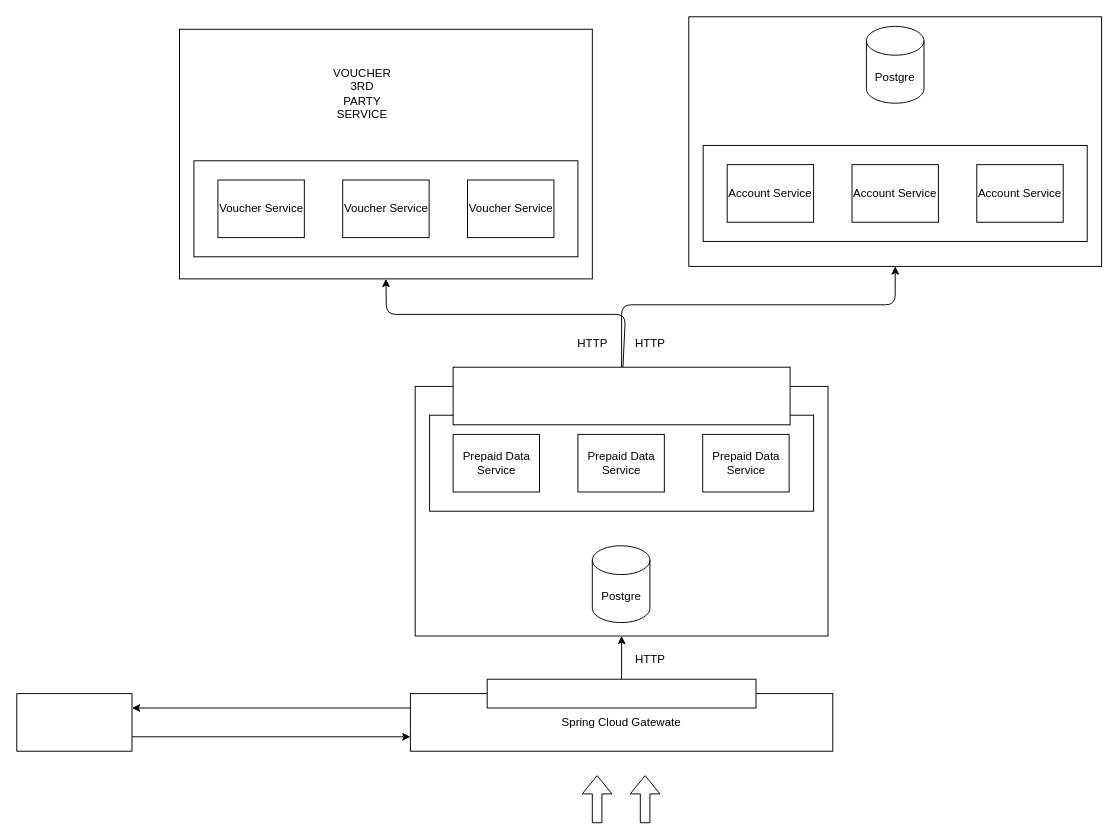
Some shapes in this 1118 by 840 pixel diagram are drawn without their labels. The shapes that lost their labels are listed below. From the top down, each one's centre as x and y in pixels, then its label:
the point at 621,395: FEIGN
the point at 621,693: Ribbon Load balance
the point at 74,722: Eureka Service Registry
